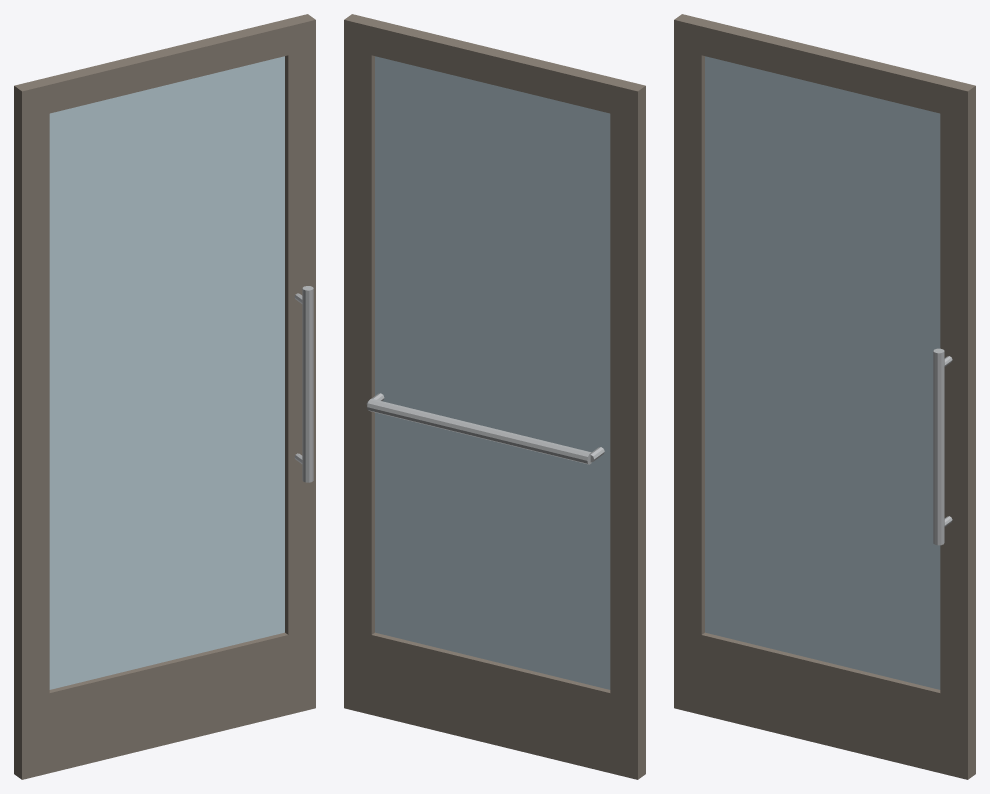
Rendered from door_leaf_glass.glb.
3 renders of one model, left to right at view 1: azimuth 30°, elevation 25°; view 2: azimuth 150°, elevation 25°; view 3: azimuth 330°, elevation 25°, orthographic.
Visible parts, largest first — view 1: door_leaf_glass_glass, door_leaf_glass_alu, door_leaf_glass_steel; view 2: door_leaf_glass_glass, door_leaf_glass_alu, door_leaf_glass_steel; view 3: door_leaf_glass_glass, door_leaf_glass_alu, door_leaf_glass_steel.
Boxes of the visible parts, <box> form: door_leaf_glass_glass: <box>49,56,284,689</box>; door_leaf_glass_alu: <box>14,14,315,779</box>; door_leaf_glass_steel: <box>294,286,313,482</box>; door_leaf_glass_glass: <box>375,56,610,689</box>; door_leaf_glass_alu: <box>344,14,645,779</box>; door_leaf_glass_steel: <box>366,393,604,464</box>; door_leaf_glass_glass: <box>705,56,940,689</box>; door_leaf_glass_alu: <box>674,14,975,779</box>; door_leaf_glass_steel: <box>933,348,952,545</box>.
Bounding box in the file's own units: 0.96 × 2.15 × 0.1982.
